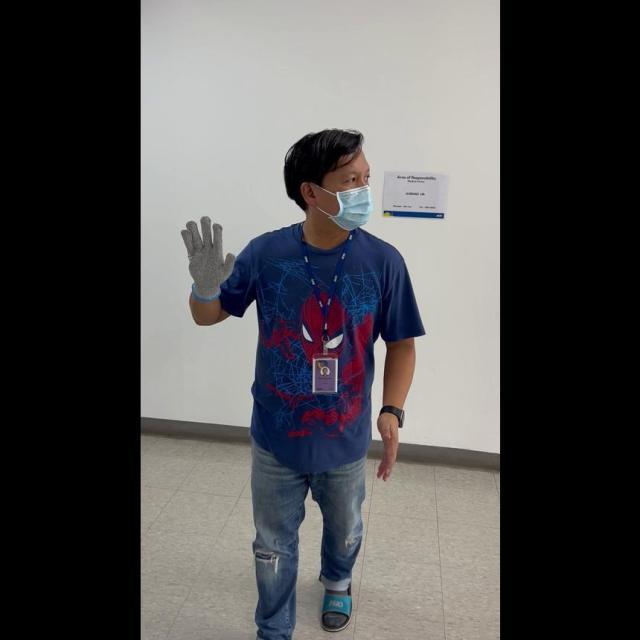bare_hand: (371, 409, 403, 481)
gloved_hand: (179, 211, 239, 301)
